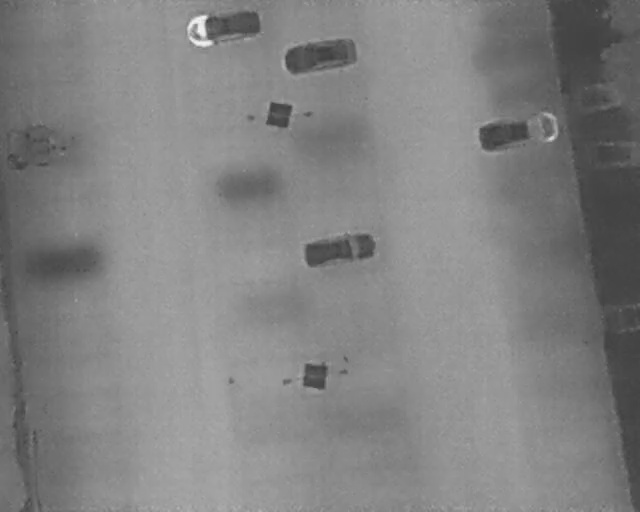Car: (475, 108, 560, 153), (279, 32, 360, 76), (184, 5, 263, 48), (301, 228, 378, 271), (574, 77, 631, 117), (593, 140, 639, 171), (604, 300, 640, 334)
